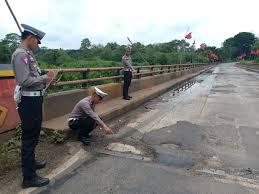Pothole: (153, 134, 253, 184), (95, 132, 155, 166)
